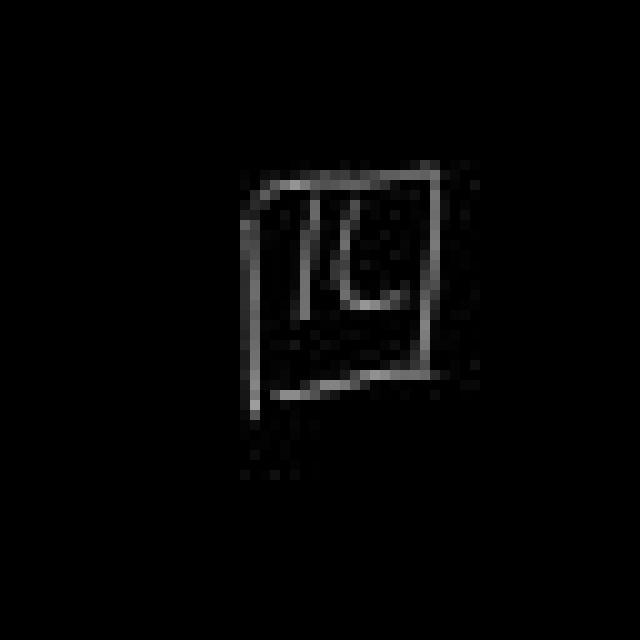4 -four-: (222, 153, 461, 426)
